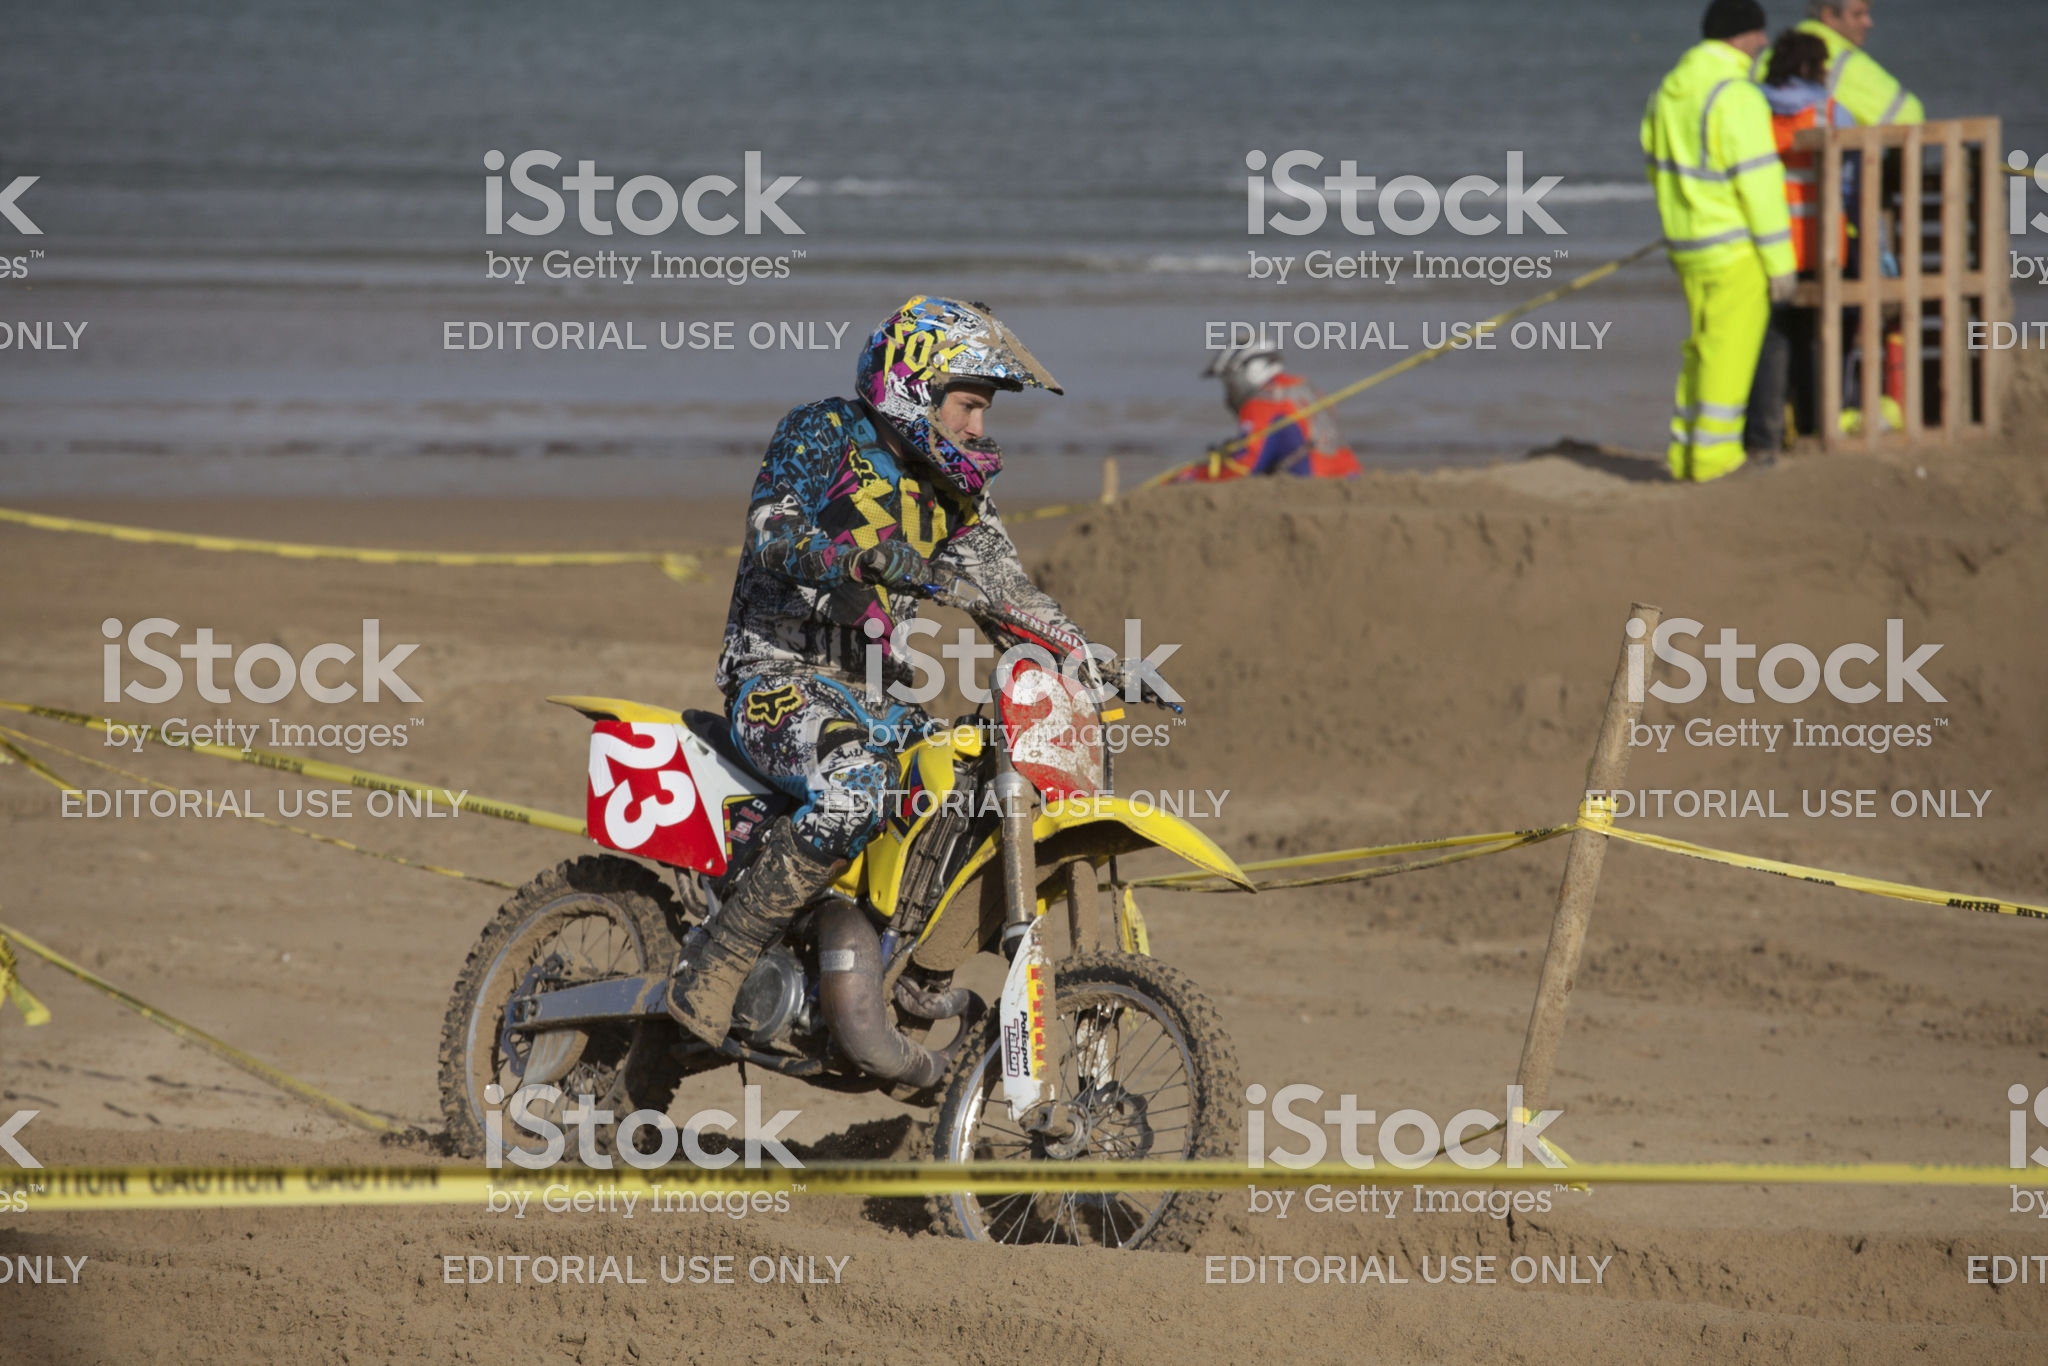helmet: (846, 277, 1039, 492)
